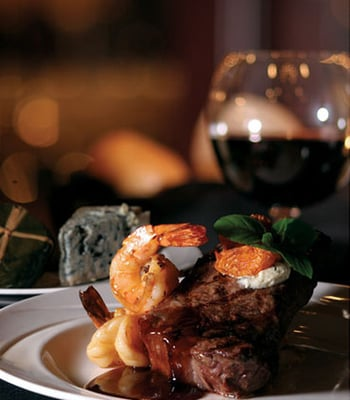taco: (85, 127, 193, 200), (12, 96, 61, 148)
